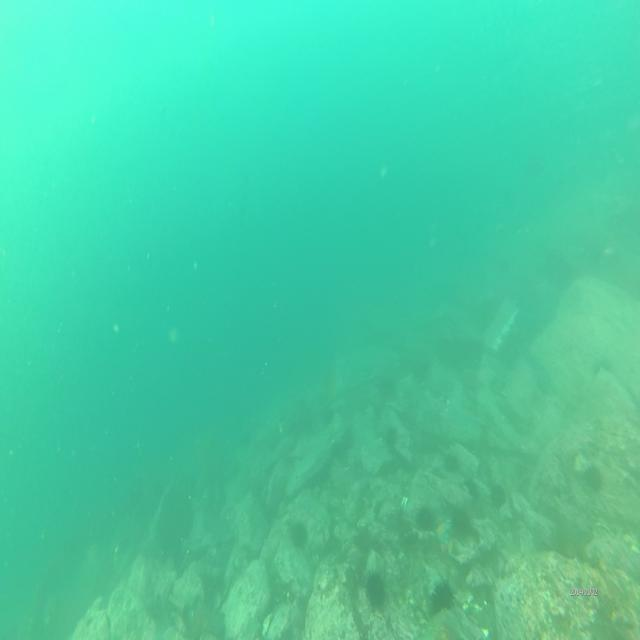echinus: (430, 579, 454, 615), (366, 567, 386, 610), (416, 501, 438, 532), (450, 510, 471, 542), (586, 464, 605, 496), (290, 518, 308, 551), (490, 482, 508, 512)
starfish: (435, 516, 454, 552)
